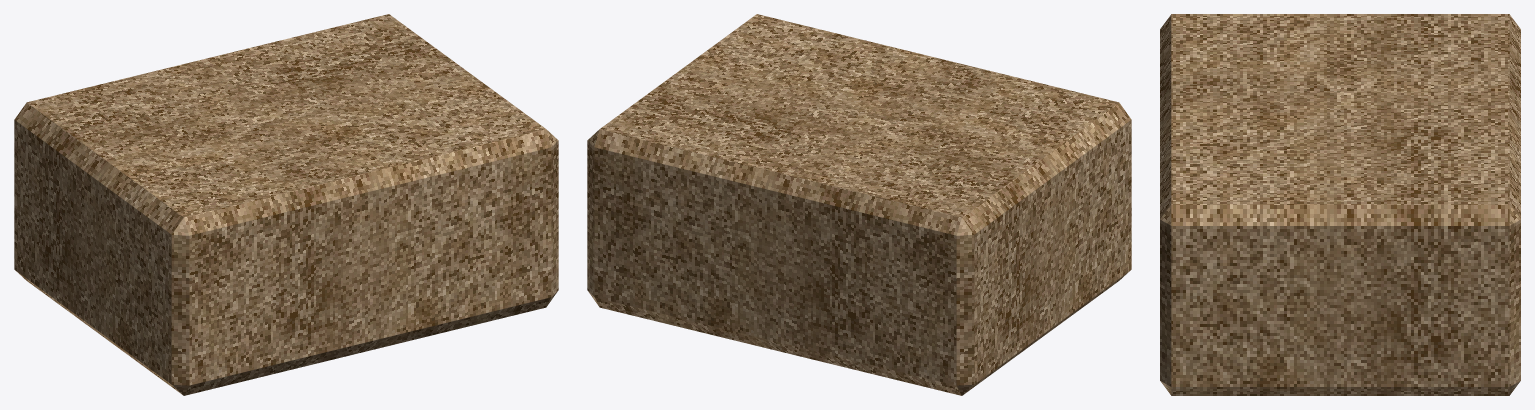
File: haybale.glb
3 views of the same model, side by side, from view 1: azimuth 30°, elevation 25°; view 2: azimuth 150°, elevation 25°; view 3: azimuth 270°, elevation 25° (orthographic). The views are drawn at different scales.
Parts seen in each view (by area): view 1: haybale; view 2: haybale; view 3: haybale.
Boxes of the visible parts, x1,y1,x2,y2 form: haybale: (14,14,558,395); haybale: (587,14,1131,395); haybale: (1160,14,1520,395).
Size of the model in its own units: 1.8 by 0.7936 by 1.35.
1 material, 1 textured.
